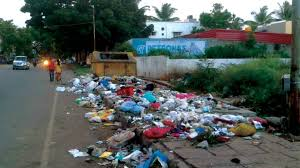garbage: (88, 89, 251, 149), (78, 75, 165, 130), (95, 110, 174, 168)
